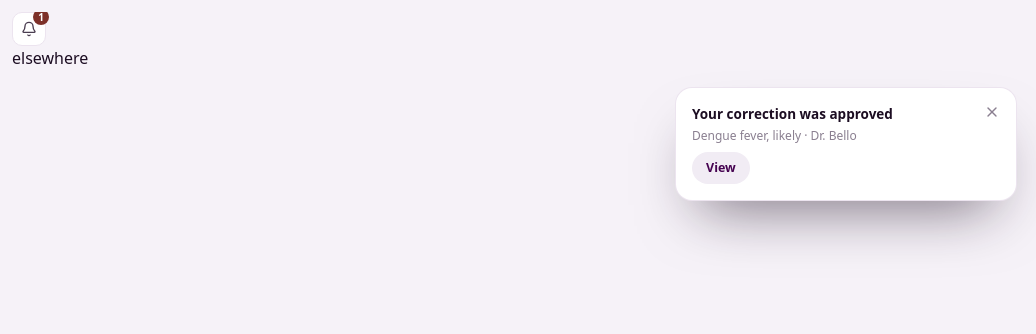
Test case: decision pop-ups and the bell › pops up a new decision, counts it on the bell, and lists it there
Expected: the text "Your correction was approved" is shown, [692,105,893,123]
Expected: the text "Dengue fever, likely · Dr. Bello" is shown, [692,127,857,144]
Click the button named "Notifications, 1 unread" at (29, 29), box [12,12,46,46]
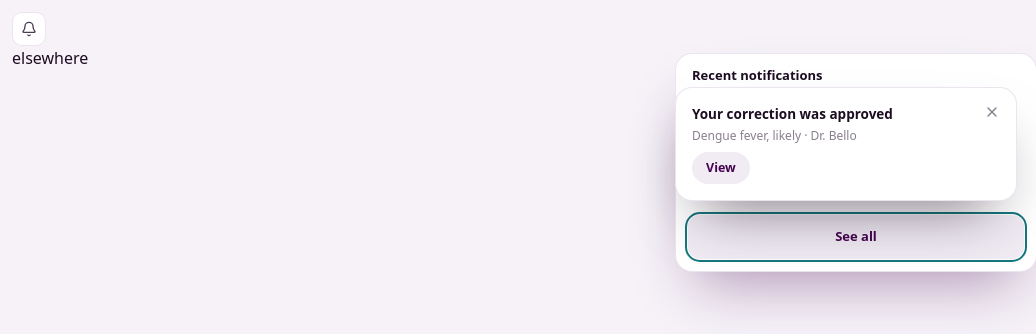
Expected: the text "Approved" is shown, [692,128,783,152]
Expected: the text "Dengue fever, likely" is shown, [791,130,918,150]
Press Escape
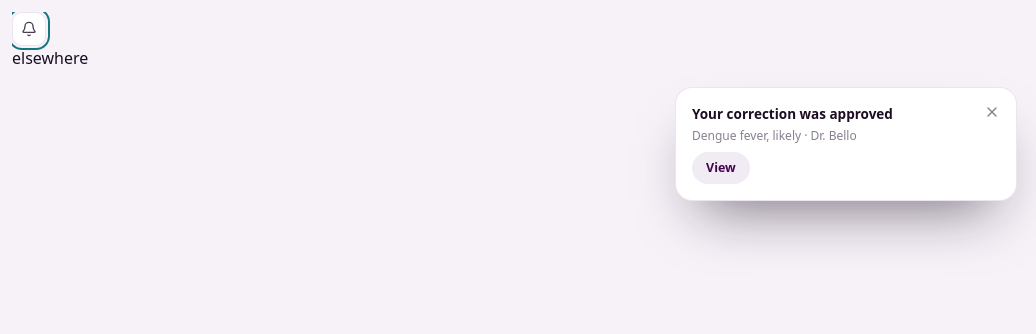
Expected: the heading "Recent notifications" is gone
